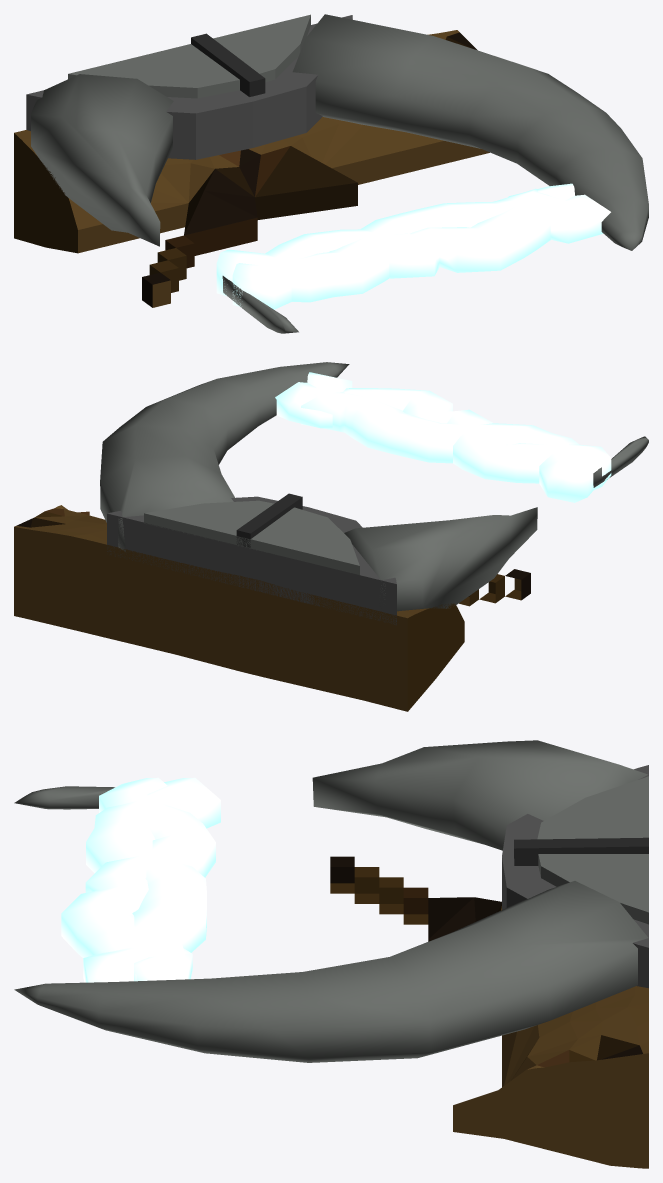
The model's file is newsh-caret-7.glb.
The picture shows the model from 3 angles, top to bottom: view 1: azimuth 30°, elevation 25°; view 2: azimuth 150°, elevation 25°; view 3: azimuth 270°, elevation 25°; orthographic projection. The views are drawn at different scales.
Visible parts, largest first — view 1: newsh-caret-7, newsh-caret-7-arc-7, newsh-caret-7-arc-9; view 2: newsh-caret-7, newsh-caret-7-arc-9, newsh-caret-7-arc-7; view 3: newsh-caret-7, newsh-caret-7-arc-9, newsh-caret-7-arc-7.
Part boxes in pixels (<box>): newsh-caret-7: <box>14,14,648,333</box>; newsh-caret-7-arc-7: <box>232,183,574,309</box>; newsh-caret-7-arc-9: <box>216,188,610,302</box>; newsh-caret-7: <box>14,362,648,711</box>; newsh-caret-7-arc-9: <box>301,372,597,502</box>; newsh-caret-7-arc-7: <box>275,382,611,490</box>; newsh-caret-7: <box>14,740,648,1168</box>; newsh-caret-7-arc-9: <box>83,777,220,982</box>; newsh-caret-7-arc-7: <box>61,777,215,981</box>.
Size of the model in its own units: 2 by 0.6957 by 2.16.
